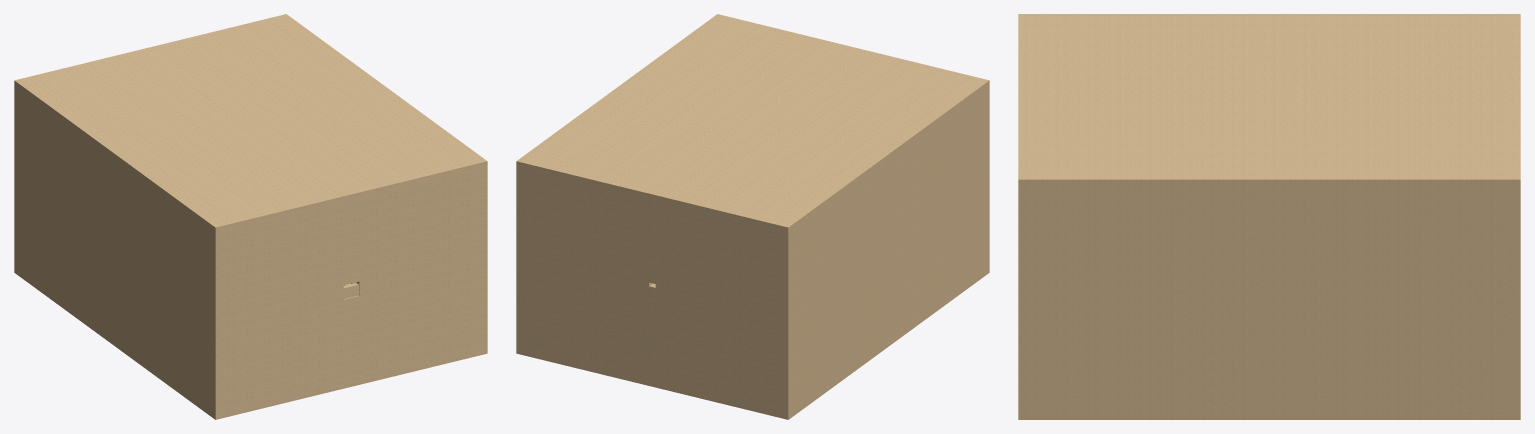
Rendered from anubisroom.fbx.
The picture shows the model from 3 angles, left to right: view 1: azimuth 30°, elevation 25°; view 2: azimuth 150°, elevation 25°; view 3: azimuth 270°, elevation 25°; orthographic projection. The views are drawn at different scales.
Parts seen in each view (by area): view 1: anubisroomouer; view 2: anubisroomouer; view 3: anubisroomouer.
Boxes of the visible parts, left/top/right/bottom form: anubisroomouer: left=14, top=14, right=487, bottom=419; anubisroomouer: left=516, top=14, right=989, bottom=419; anubisroomouer: left=1018, top=14, right=1520, bottom=419.
Size of the model in its own units: 39038 by 26369 by 49985.
